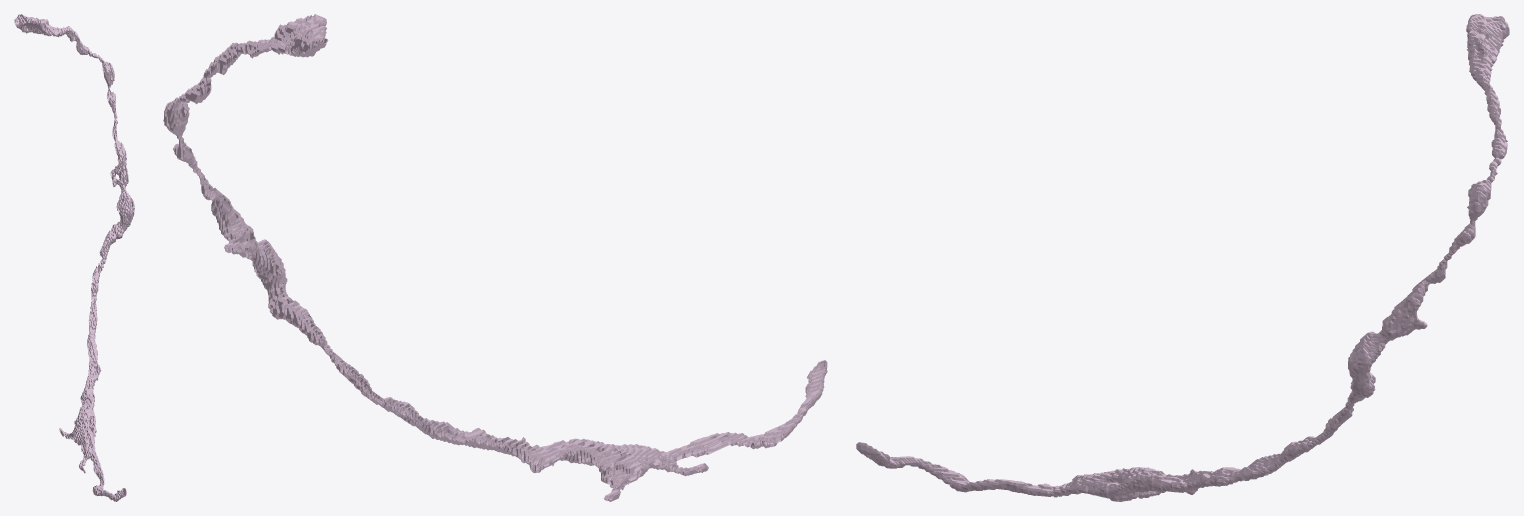
The model's file is SVV_AIAR.gltf.
3 renders of one model, left to right at view 1: azimuth 30°, elevation 25°; view 2: azimuth 150°, elevation 25°; view 3: azimuth 270°, elevation 25°, orthographic. The views are drawn at different scales.
Visible parts, largest first — view 1: AIAR; view 2: AIAR; view 3: AIAR.
Part boxes in pixels (left/top/right/bottom): AIAR: left=14, top=14, right=134, bottom=501; AIAR: left=163, top=14, right=827, bottom=501; AIAR: left=856, top=14, right=1509, bottom=501.
Bounding box in the file's own units: 89041 × 153680 × 167065.
